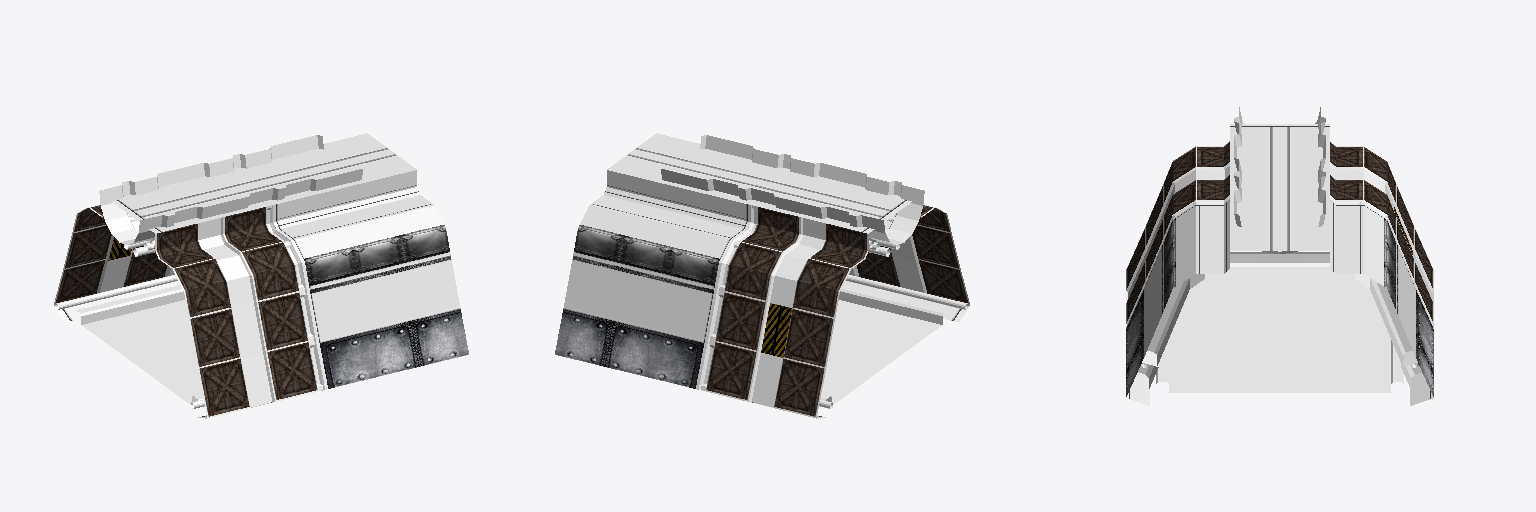
3 renders of one model, left to right at view 1: azimuth 30°, elevation 25°; view 2: azimuth 150°, elevation 25°; view 3: azimuth 270°, elevation 25°, orthographic.
Bounding box in the file's own units: 2.86 × 1.68 × 2.8.
2 materials, 2 textured.